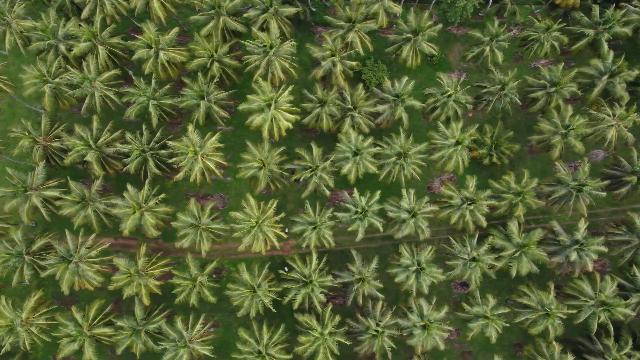trees: (38, 230, 118, 297), (558, 274, 636, 335), (49, 301, 125, 360), (61, 118, 133, 179), (539, 161, 614, 219), (108, 246, 177, 307), (486, 220, 554, 281), (51, 176, 122, 234), (278, 253, 343, 316), (166, 125, 233, 186), (541, 220, 612, 277), (505, 285, 573, 344), (130, 22, 194, 84), (227, 196, 292, 257), (4, 163, 69, 224), (239, 82, 305, 142), (21, 56, 89, 114), (395, 299, 460, 359), (113, 124, 180, 182), (108, 303, 176, 360), (382, 9, 444, 71), (186, 29, 250, 89), (110, 184, 176, 242), (171, 197, 234, 257), (240, 30, 303, 90), (430, 178, 495, 236), (117, 75, 185, 130), (174, 73, 240, 129), (1, 291, 57, 355), (9, 115, 74, 170), (439, 233, 500, 291), (517, 65, 582, 119), (317, 3, 387, 53), (346, 302, 406, 360), (227, 264, 288, 321), (72, 21, 133, 78), (1, 226, 57, 288), (388, 243, 447, 301), (307, 34, 368, 90), (453, 293, 515, 348), (528, 111, 592, 164), (372, 129, 431, 186), (236, 139, 296, 195), (168, 256, 227, 311), (381, 189, 440, 244), (153, 313, 222, 360), (486, 170, 546, 224), (286, 141, 341, 198), (581, 102, 640, 155), (329, 130, 384, 186), (462, 20, 520, 73), (336, 189, 391, 244), (427, 121, 482, 176), (293, 308, 351, 360), (336, 252, 388, 310), (368, 77, 423, 131), (468, 68, 527, 118), (288, 198, 342, 252), (422, 75, 477, 127), (234, 318, 299, 360), (514, 18, 574, 63), (300, 86, 353, 135), (470, 120, 524, 168)
